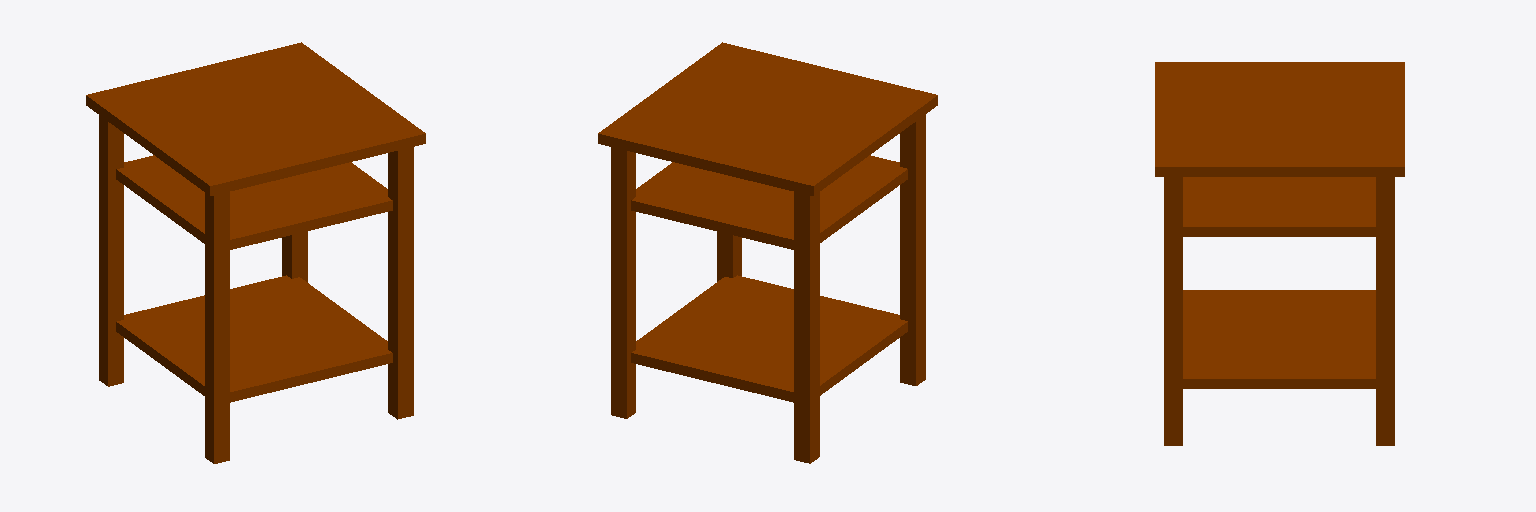
The picture shows the model from 3 angles: view 1: azimuth 30°, elevation 25°; view 2: azimuth 150°, elevation 25°; view 3: azimuth 270°, elevation 25°; orthographic projection.
Parts seen in each view (by area): view 1: Assise_1, Assise_1_6, Assise_2_7, Pied_2_4, Pied_1_3, Pied_2, Pied_3_5; view 2: Assise_1, Assise_1_6, Assise_2_7, Pied_2, Pied_3_5, Pied_1_3, Pied_2_4; view 3: Assise_1, Assise_1_6, Assise_2_7, Pied_2_4, Pied_3_5.
Part boxes in pixels (x1,y1,x2,y2): Assise_1: (86, 42, 425, 195); Assise_1_6: (116, 275, 392, 402); Assise_2_7: (116, 155, 392, 249); Pied_2_4: (388, 147, 413, 419); Pied_1_3: (205, 192, 229, 463); Pied_2: (99, 115, 123, 386); Pied_3_5: (282, 231, 307, 282); Assise_1: (598, 42, 937, 195); Assise_1_6: (631, 275, 907, 402); Assise_2_7: (631, 155, 907, 249); Pied_2: (794, 192, 819, 463); Pied_3_5: (611, 147, 635, 418); Pied_1_3: (900, 114, 925, 385); Pied_2_4: (717, 232, 741, 281); Assise_1: (1155, 62, 1404, 176); Assise_1_6: (1183, 290, 1375, 388); Assise_2_7: (1183, 177, 1375, 236); Pied_2_4: (1164, 177, 1182, 445); Pied_3_5: (1376, 177, 1394, 445).
Size of the model in its own units: 4 by 5.02 by 4.